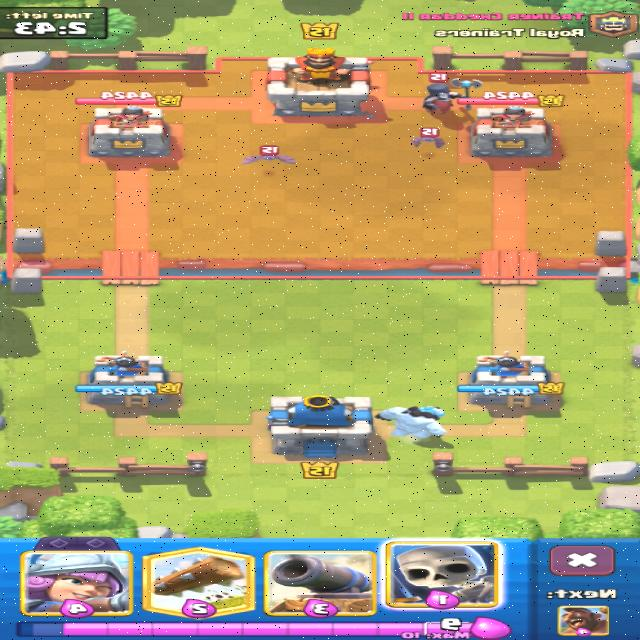Enemy-Bat: (243, 146, 295, 163), (413, 128, 445, 147)
Enemy-KingTower: (267, 48, 372, 115)
Enemy-NightWitch: (425, 78, 483, 115)
Enemy-PrincessTower: (90, 106, 170, 157), (472, 106, 551, 157)
Player-IceGolem: (378, 406, 446, 439)
Player-KingTower: (268, 395, 373, 458)
Player-PrincessTower: (76, 351, 181, 408), (458, 352, 564, 408)
